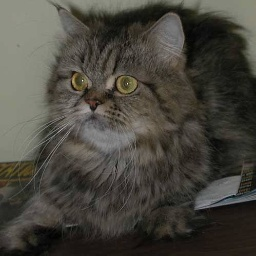cat: (20, 6, 256, 231)
